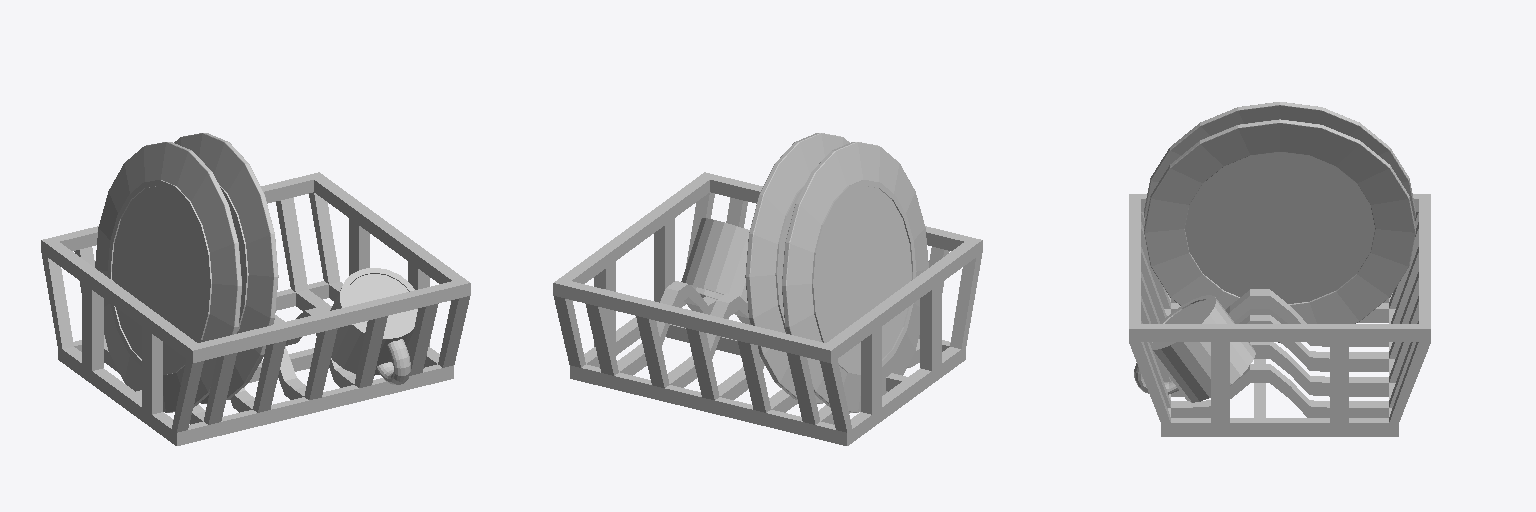
File: kitchen_counter_contents_1.obj
3 renders of one model, left to right at view 1: azimuth 30°, elevation 25°; view 2: azimuth 150°, elevation 25°; view 3: azimuth 270°, elevation 25°, orthographic.
Bounding box in the file's own units: 4.95 × 4.14 × 4.67.